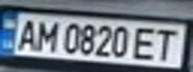0: (112, 22, 133, 60), (60, 20, 81, 55)
2: (93, 21, 115, 57)
8: (78, 20, 100, 56)
A: (12, 16, 42, 52)
E: (130, 24, 163, 62)
M: (33, 18, 60, 53)
T: (151, 26, 184, 62)
